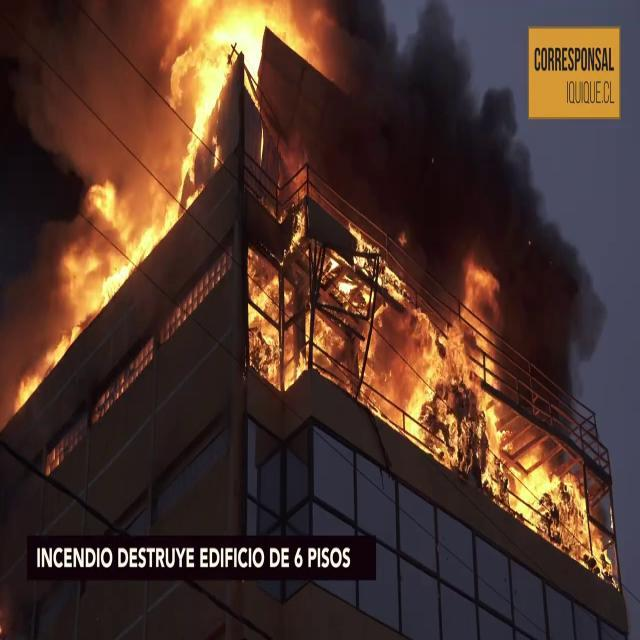Fire: (11, 170, 172, 418), (248, 201, 402, 399), (400, 267, 514, 490), (156, 1, 282, 190), (494, 444, 614, 576)
Smoke: (320, 1, 600, 344)
